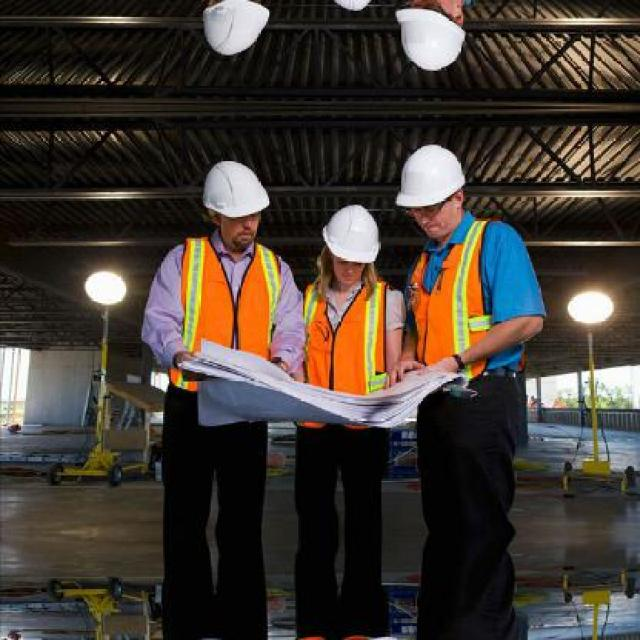helmet: (392, 128, 470, 250), (196, 144, 275, 259), (315, 196, 387, 293), (391, 0, 471, 85), (196, 0, 276, 69)
